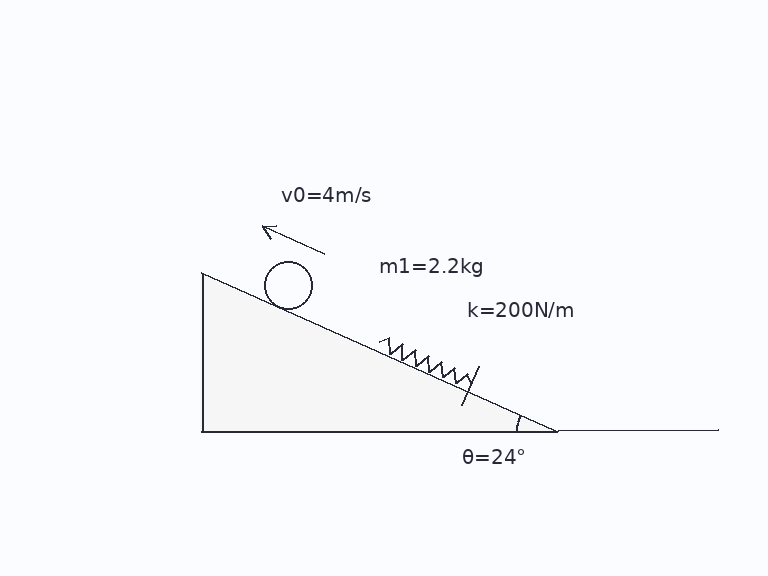ball: (262, 259, 314, 311)
ramp: (199, 270, 559, 433)
spring: (377, 336, 474, 386)
